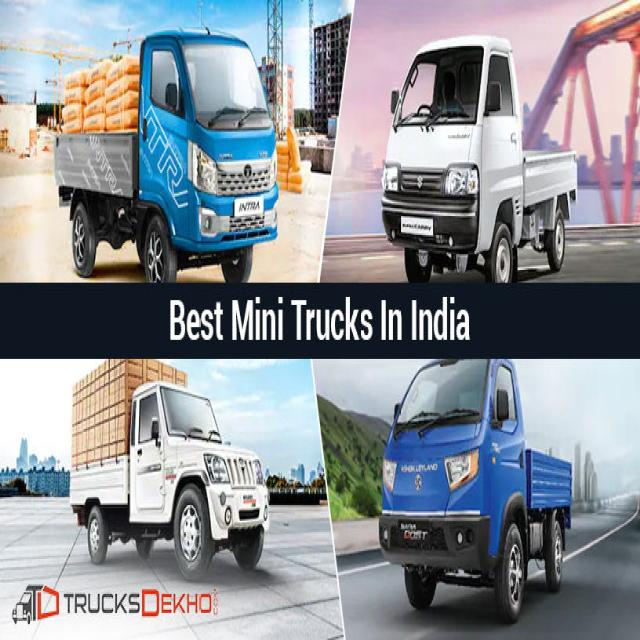truck: (54, 30, 278, 281), (380, 359, 572, 621), (381, 35, 578, 282), (70, 359, 269, 578)
